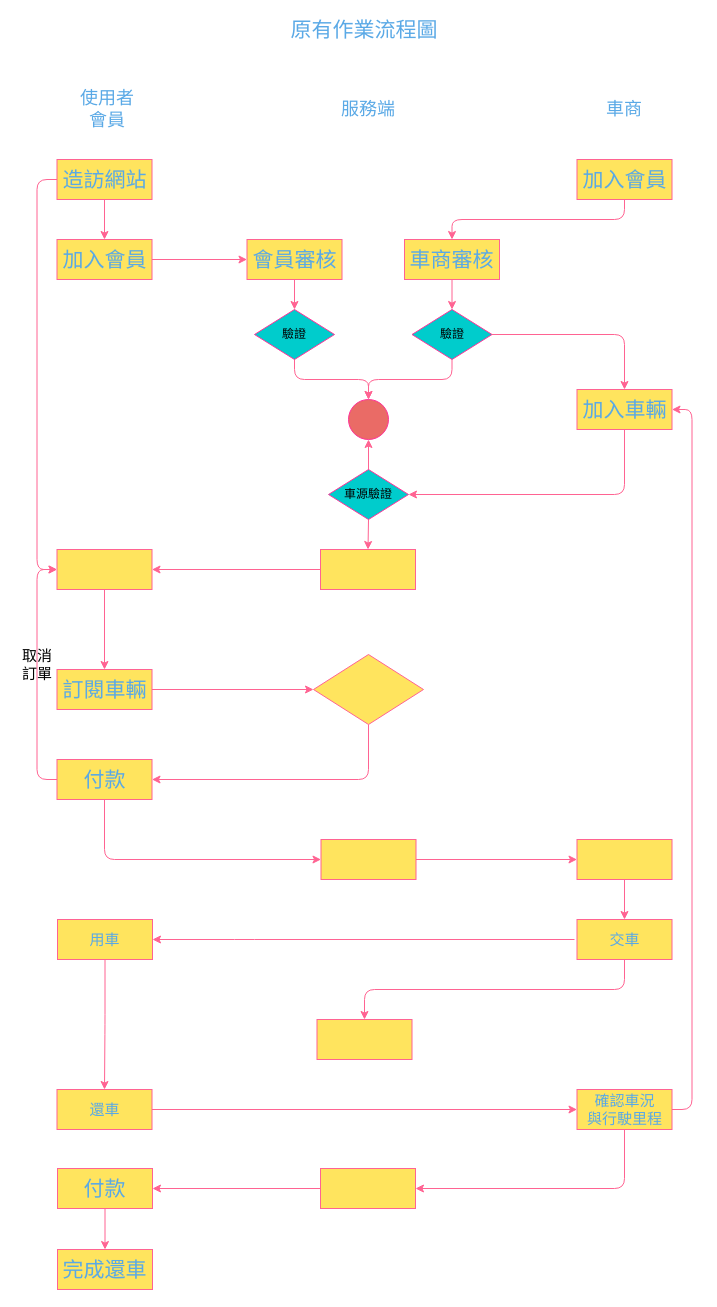
The diagram is 717 pixels wide and 1307 high, and some of its shapes have lost their labels. Here are the shapes that lost their labels. From the top down, the box of each, then its label:
(348, 398, 388, 440): 結束
(56, 548, 152, 590): 瀏覽商品
(320, 548, 416, 590): 商品上架
(312, 654, 424, 724): 確認訂單
(320, 838, 416, 880): 完成訂單 通知車商
(576, 838, 672, 880): 準備車輛
(316, 1018, 412, 1060): 確認交車 交付車商租金
(320, 1168, 416, 1208): 計算其餘花費
